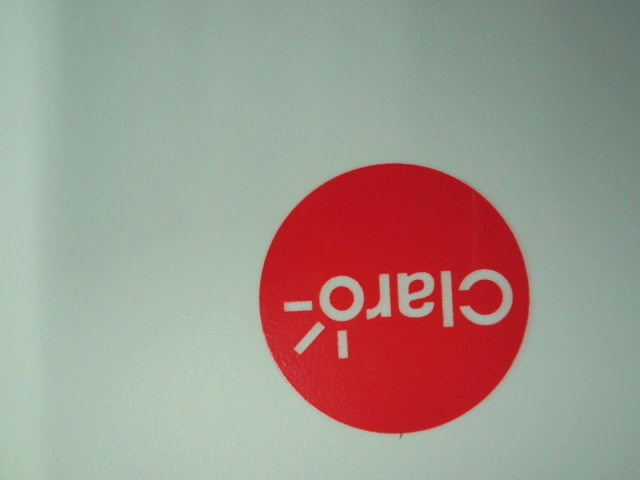BC_ClaorRed: (249, 160, 534, 437)
